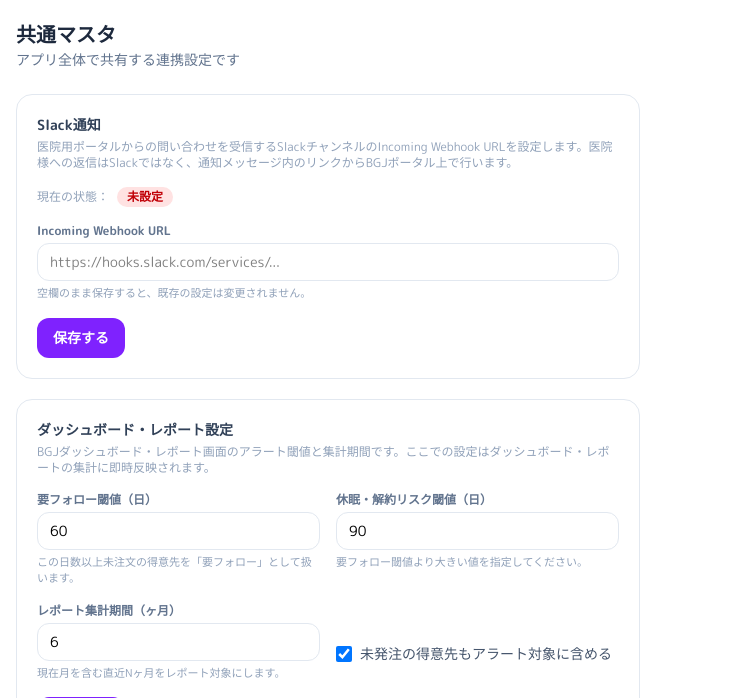
Test: BgjSystemSettingsPage › 保存失敗時はエラーメッセージをトースト表示する
Expected: the text "未設定" is shown, [117, 187, 173, 207]
Click the button "保存する" below "空欄のまま保存すると、既存の設定は変更されません。".
click(81, 338)  # box [37, 318, 125, 358]
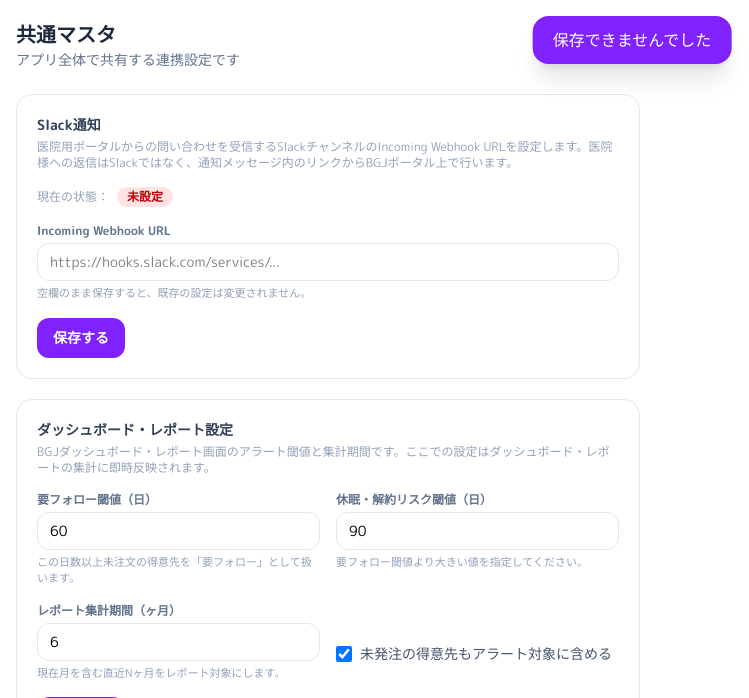
Expected: the text "保存できませんでした" is shown, [533, 16, 731, 64]
